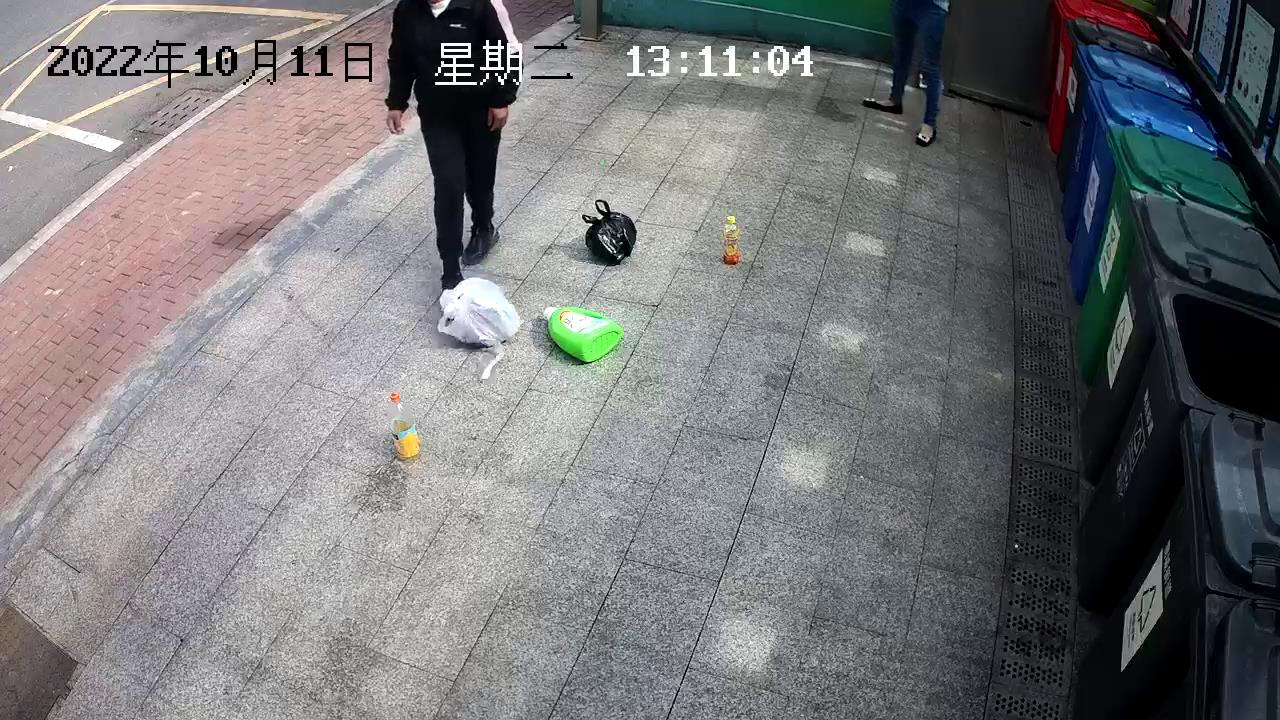garbage-bag: (434, 275, 525, 350), (578, 196, 639, 268)
person: (378, 1, 522, 291)
suliaozhipin: (538, 301, 629, 364), (385, 386, 424, 462), (720, 212, 744, 265)
